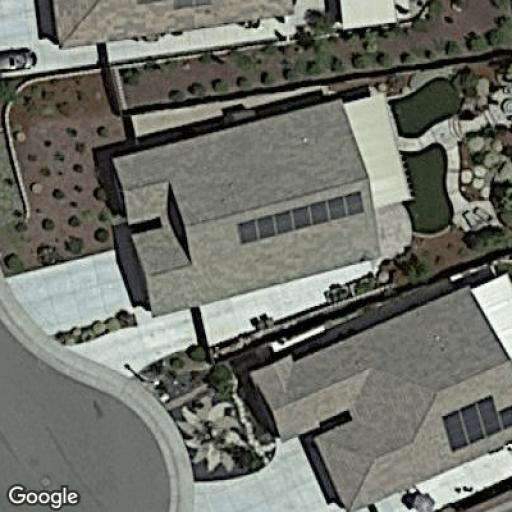solar-panel: (233, 190, 366, 244), (440, 393, 512, 455)
